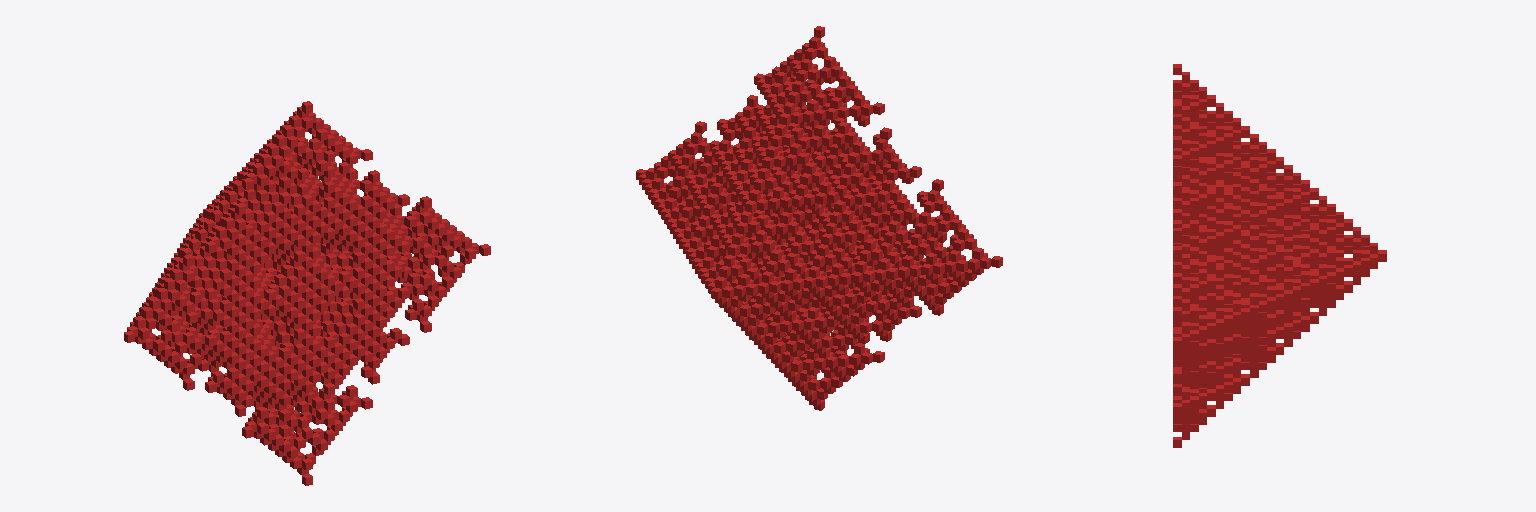
The model's file is code460.obj.
The picture shows the model from 3 angles: view 1: azimuth 30°, elevation 25°; view 2: azimuth 150°, elevation 25°; view 3: azimuth 270°, elevation 25°; orthographic projection.
Size of the model in its own units: 49 by 49 by 25.